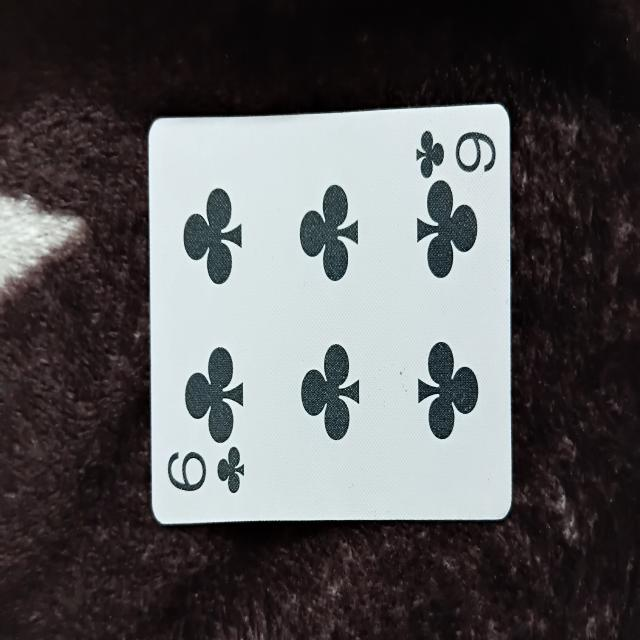6C: (149, 101, 511, 534)
